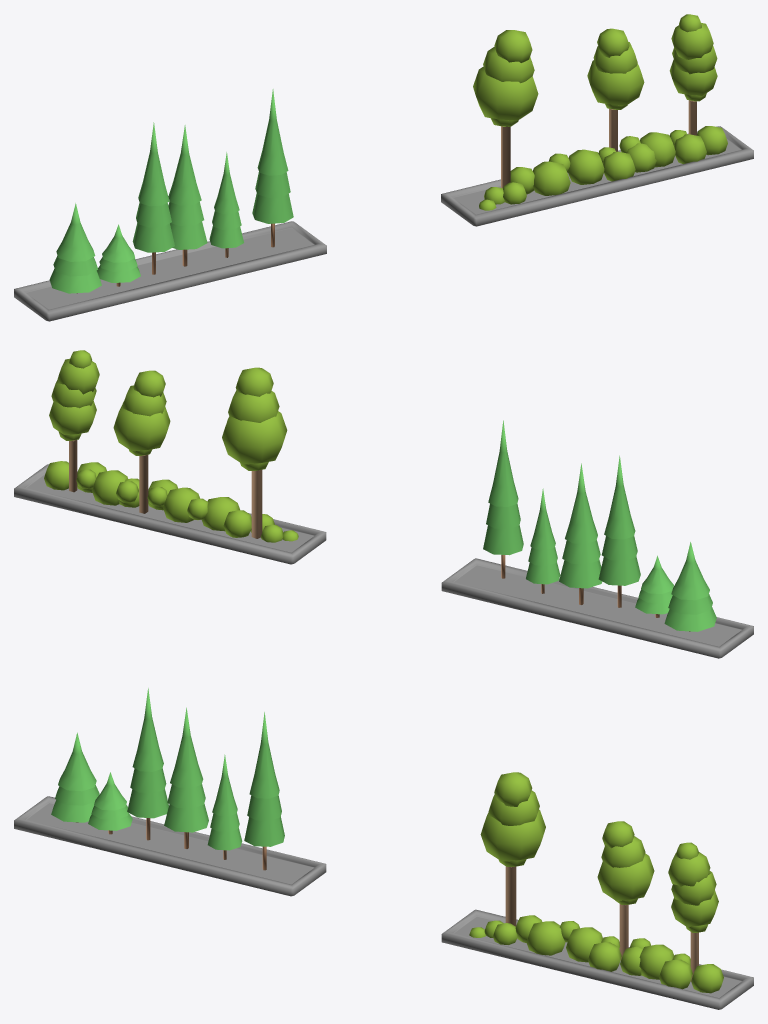
Rendered from different trees.fbx.
3 views of the same model, one above another, from view 1: azimuth 30°, elevation 25°; view 2: azimuth 150°, elevation 25°; view 3: azimuth 330°, elevation 25° (orthographic).
Visible parts, largest first — view 1: Cube_7, Cube_7.001, Tree_3_2, Tree_2_2, Tree_1_2, Firtree_4, Firtree_2, Firtree_1, Bushes_4, Firtree_47, Bushes_2_3, Bushes_15_2 (+2 smaller); view 2: Cube_7, Cube_7.001, Tree_3_2, Tree_2_2, Tree_1_2, Firtree_4, Firtree_1, Firtree_2, Firtree_47, Bushes_2_3, Bushes_15_2, Bushes_4 (+2 smaller); view 3: Cube_7, Cube_7.001, Tree_3_2, Tree_2_2, Tree_1_2, Firtree_1, Firtree_4, Firtree_2, Bushes_2_3, Bushes_4, Firtree_47, Bushes_15_2 (+2 smaller).
Boxes of the visible parts, left/top/right/bottom form: Cube_7: left=14, top=221, right=326, bottom=321; Cube_7.001: left=441, top=126, right=753, bottom=226; Tree_3_2: left=473, top=30, right=538, bottom=188; Tree_2_2: left=587, top=28, right=644, bottom=151; Tree_1_2: left=669, top=14, right=717, bottom=135; Firtree_4: left=252, top=89, right=293, bottom=247; Firtree_2: left=132, top=122, right=174, bottom=274; Firtree_1: left=168, top=125, right=207, bottom=266; Bushes_4: left=548, top=143, right=656, bottom=184; Firtree_47: left=49, top=203, right=101, bottom=293; Bushes_2_3: left=619, top=126, right=727, bottom=167; Bushes_15_2: left=479, top=161, right=570, bottom=210; Cube_7: left=441, top=558, right=753, bottom=658; Cube_7.001: left=14, top=464, right=326, bottom=564; Tree_3_2: left=222, top=367, right=287, bottom=538; Tree_2_2: left=113, top=370, right=170, bottom=513; Tree_1_2: left=49, top=350, right=99, bottom=492; Firtree_4: left=483, top=420, right=523, bottom=578; Firtree_1: left=559, top=463, right=602, bottom=604; Firtree_2: left=598, top=455, right=640, bottom=607; Firtree_47: left=664, top=542, right=716, bottom=631; Bushes_2_3: left=44, top=461, right=138, bottom=505; Bushes_15_2: left=202, top=497, right=298, bottom=542; Bushes_4: left=119, top=478, right=208, bottom=522; Cube_7: left=14, top=796, right=326, bottom=896; Cube_7.001: left=441, top=909, right=753, bottom=1009; Tree_3_2: left=480, top=772, right=545, bottom=926; Tree_2_2: left=597, top=821, right=654, bottom=960; Tree_1_2: left=668, top=842, right=718, bottom=981; Firtree_1: left=164, top=707, right=208, bottom=848; Firtree_4: left=244, top=712, right=284, bottom=870; Firtree_2: left=127, top=688, right=168, bottom=840; Bushes_2_3: left=629, top=938, right=723, bottom=993; Bushes_4: left=559, top=921, right=642, bottom=975; Firtree_47: left=51, top=732, right=99, bottom=822; Bushes_15_2: left=469, top=915, right=565, bottom=955.
Size of the model in its own units: 912 by 221 by 86.64.
